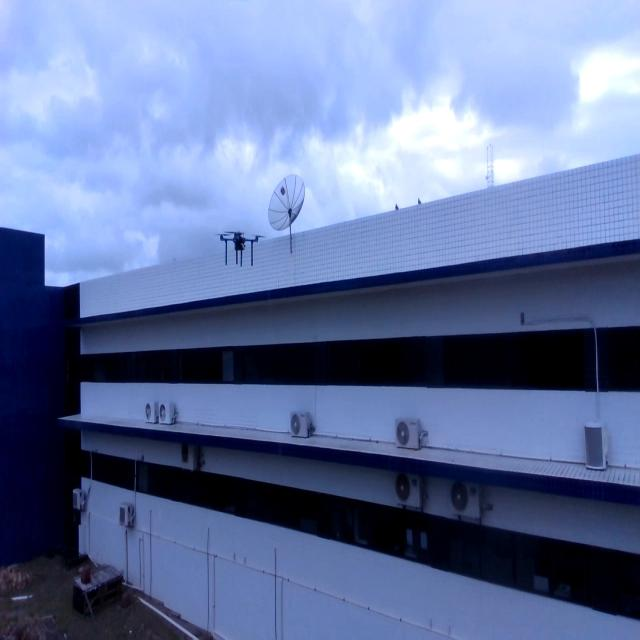-uav-: (214, 219, 268, 283)
